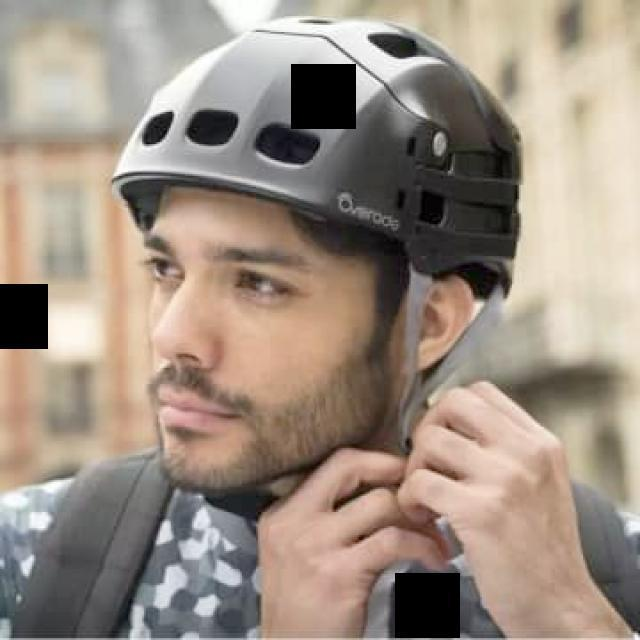helmet: (108, 12, 518, 522)
